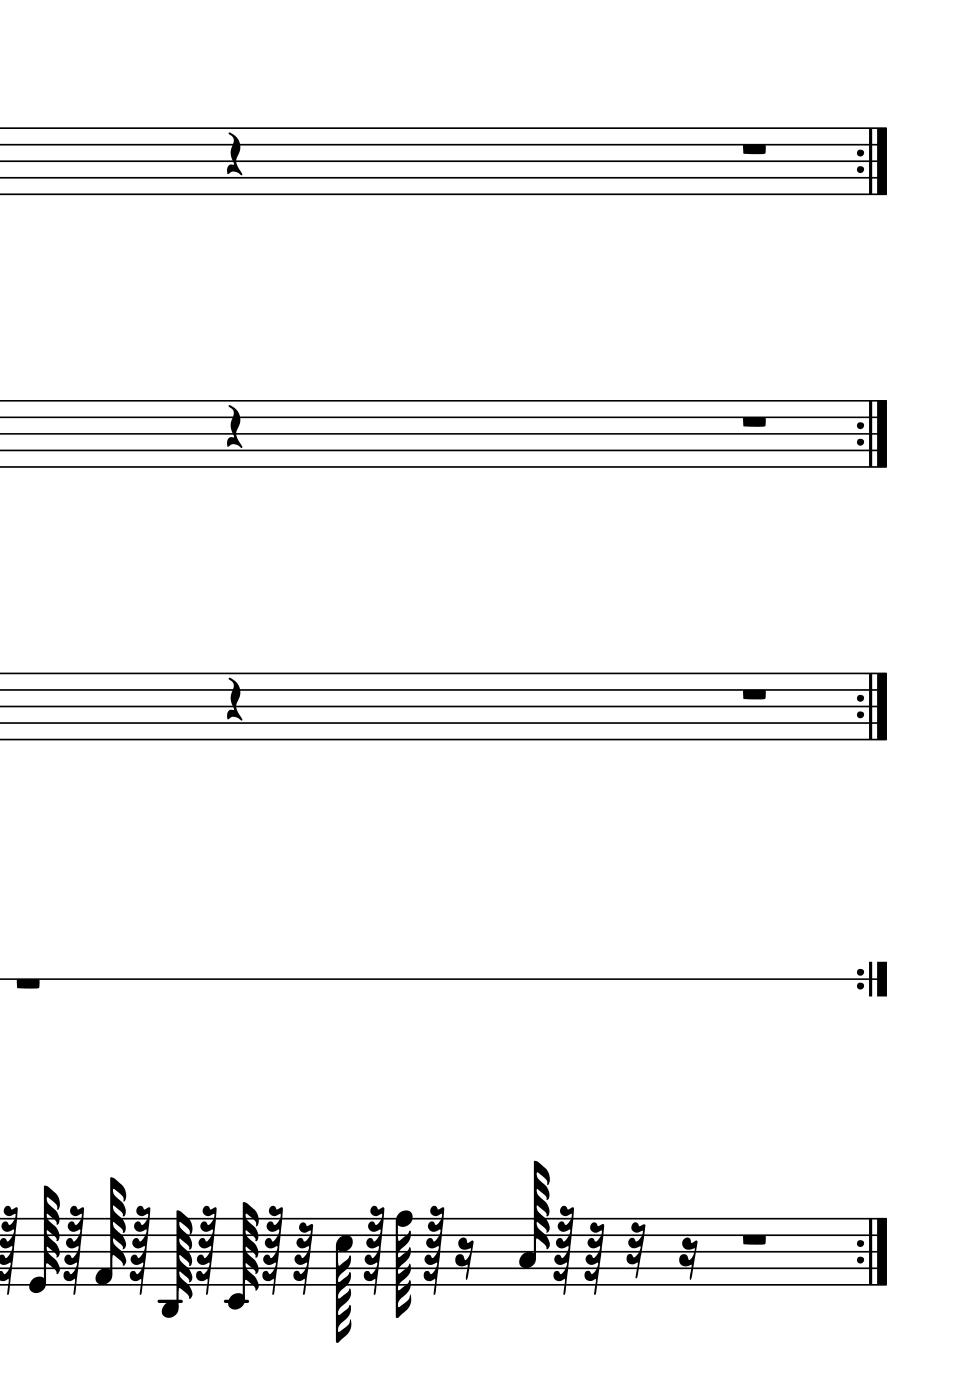128_-2: (223, 1201, 261, 1310)
128_-3: (159, 1210, 194, 1317)
128_0: (28, 1185, 62, 1292)
128_1: (97, 1177, 129, 1286)
128_3: (519, 1161, 550, 1285)
128_5: (332, 1215, 354, 1344)
128_8: (393, 1211, 413, 1322)
Rests1: (736, 684, 772, 705), (737, 411, 771, 433), (737, 139, 771, 159), (12, 973, 46, 994), (736, 1230, 771, 1249)
Rests128: (260, 1205, 286, 1295), (361, 1206, 387, 1296), (419, 1205, 445, 1295), (62, 1205, 87, 1295), (128, 1204, 154, 1294), (194, 1205, 220, 1295), (552, 1205, 577, 1295)
Rests16: (623, 1222, 647, 1281), (676, 1236, 699, 1282), (454, 1236, 475, 1282)
Rests4: (223, 676, 245, 723), (223, 403, 244, 450), (224, 131, 245, 177)
Rests64: (292, 1220, 315, 1297), (585, 1220, 608, 1297)
RightRepeatSign: (854, 126, 891, 196), (854, 1217, 891, 1287), (854, 399, 891, 468), (855, 672, 891, 741), (855, 961, 889, 998)
